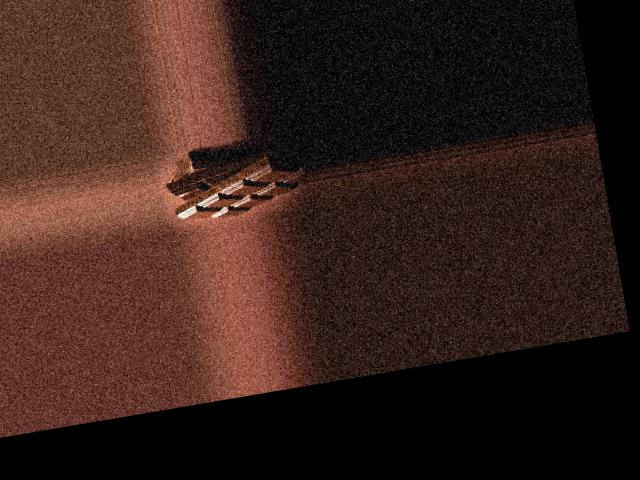chocolate: (163, 143, 305, 225)
